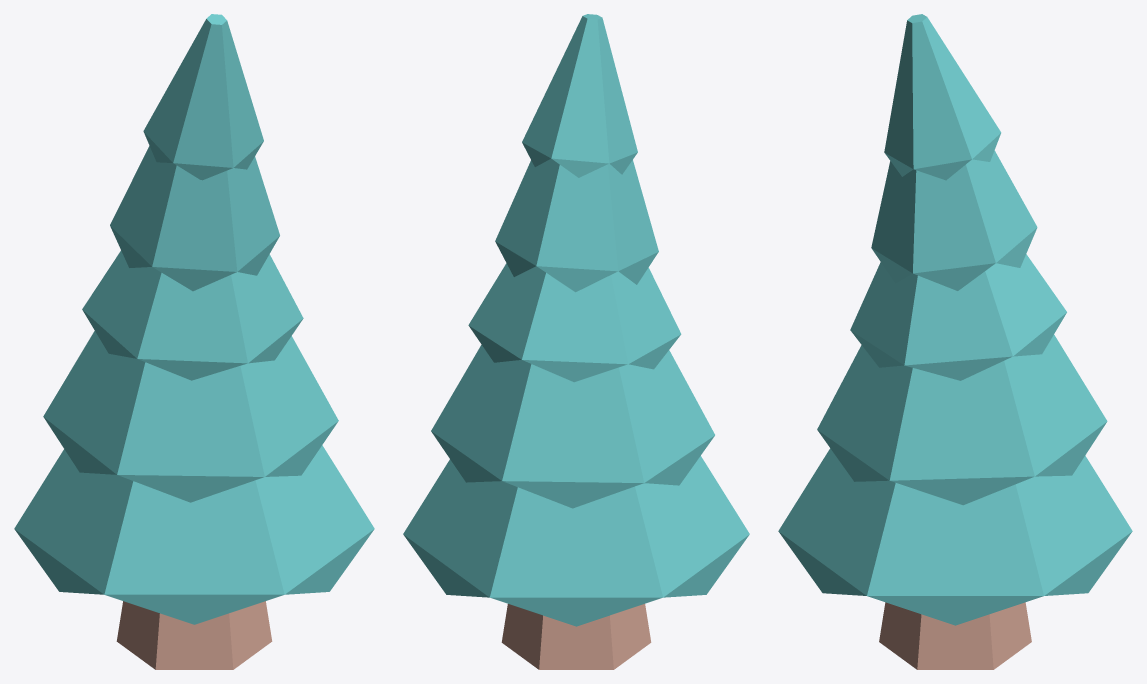
The model's file is tree_pineRoundD.gltf.
3 views of the same model, side by side, from view 1: azimuth 30°, elevation 25°; view 2: azimuth 150°, elevation 25°; view 3: azimuth 270°, elevation 25° (orthographic). The views are drawn at different scales.
Parts seen in each view (by area): view 1: tree_pineRoundD; view 2: tree_pineRoundD; view 3: tree_pineRoundD.
Boxes of the visible parts, left/top/right/bottom form: tree_pineRoundD: left=14, top=14, right=374, bottom=669; tree_pineRoundD: left=403, top=14, right=749, bottom=669; tree_pineRoundD: left=778, top=14, right=1132, bottom=669.
Bounding box in the file's own units: 0.4804 × 1.08 × 0.5547.
